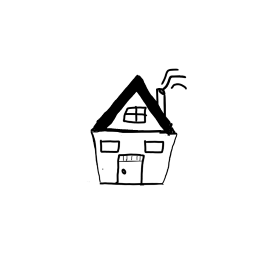closed_window: (121, 104, 150, 125)
door: (115, 152, 146, 188)
open_window: (141, 138, 167, 157), (98, 138, 123, 155)
roof: (85, 71, 181, 135)
small_house: (3, 3, 260, 260)
smoking_chimney: (153, 65, 194, 117)
wall: (88, 126, 179, 191)
